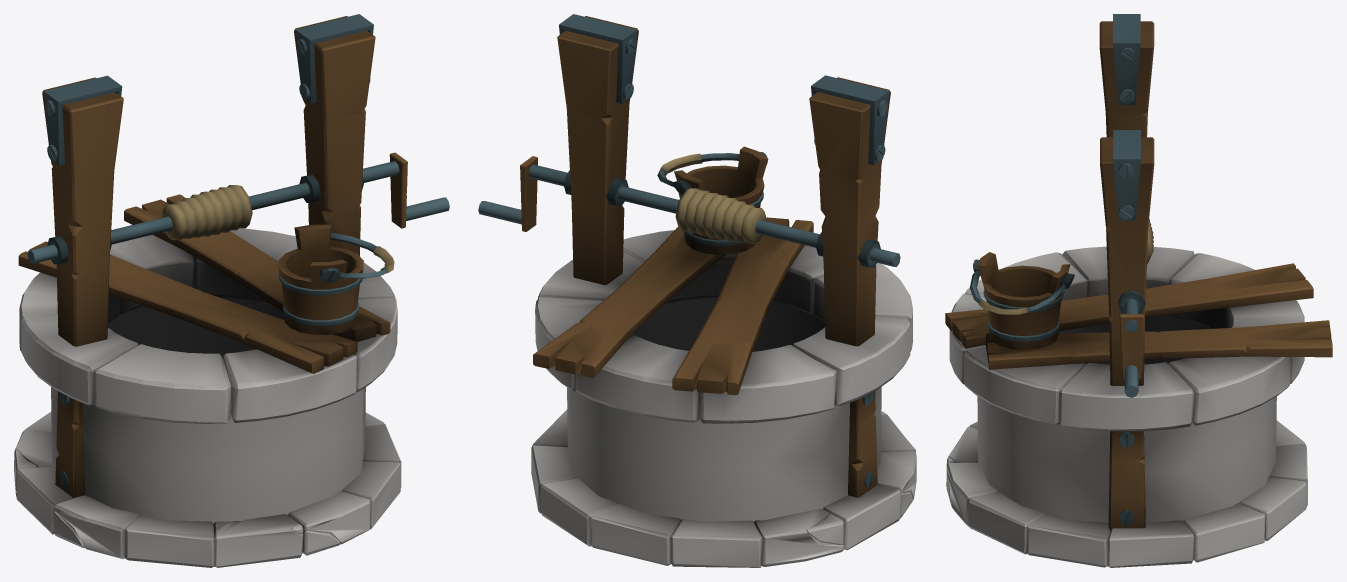
Rendered from obj_well.FBX.
The picture shows the model from 3 angles, left to right: view 1: azimuth 30°, elevation 25°; view 2: azimuth 150°, elevation 25°; view 3: azimuth 270°, elevation 25°; orthographic projection. The views are drawn at different scales.
Visible parts, largest first — view 1: obj_well; view 2: obj_well; view 3: obj_well.
Boxes of the visible parts, x1=… form: obj_well: x1=14, y1=14, x2=449, y2=567; obj_well: x1=478, y1=14, x2=916, y2=567; obj_well: x1=945, y1=14, x2=1332, y2=567.
Size of the model in its own units: 5.84 by 5.78 by 5.01.
